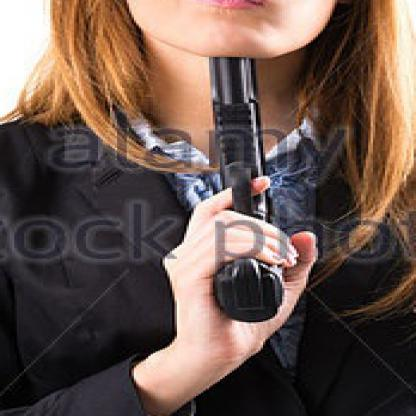gun: (208, 57, 285, 319)
